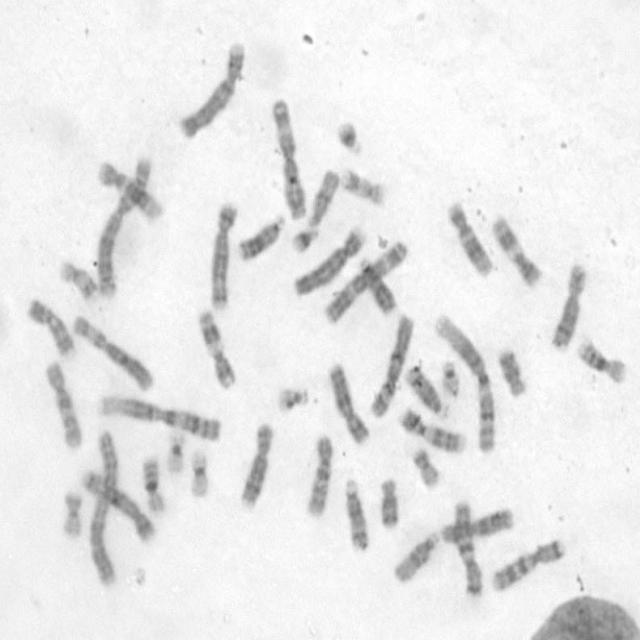A1: (432, 310, 498, 456), (94, 391, 222, 443)
A2: (93, 153, 155, 300), (86, 425, 120, 588)
A3: (321, 236, 409, 324), (268, 94, 307, 221)
B4: (176, 35, 247, 141), (290, 221, 367, 299)
B5: (78, 465, 156, 544), (206, 197, 239, 312)
C10: (41, 356, 84, 452), (303, 430, 335, 520)
C11: (488, 212, 544, 290), (195, 304, 237, 393)
C12: (94, 156, 163, 223), (444, 198, 494, 279)
C6: (70, 310, 156, 393), (367, 310, 416, 419)
C7: (487, 534, 566, 594), (450, 496, 484, 597)
C8: (547, 260, 587, 351), (238, 418, 274, 511)
C9: (396, 404, 468, 456), (24, 294, 77, 361)
D13: (234, 210, 286, 262), (355, 253, 397, 317)
D14: (402, 362, 450, 420), (342, 474, 371, 554)
D15: (389, 526, 441, 586), (304, 165, 341, 228)
E16: (575, 334, 627, 386), (139, 452, 167, 514)
E17: (338, 162, 388, 208), (56, 258, 98, 304)
E18: (495, 344, 528, 399), (377, 472, 401, 530)
F19: (186, 445, 211, 500), (162, 428, 188, 477)
F20: (408, 443, 442, 491), (58, 487, 85, 540)
G21: (333, 117, 364, 156), (288, 223, 320, 255)
G22: (274, 380, 312, 414), (437, 356, 462, 400)
X: (326, 360, 372, 447)
